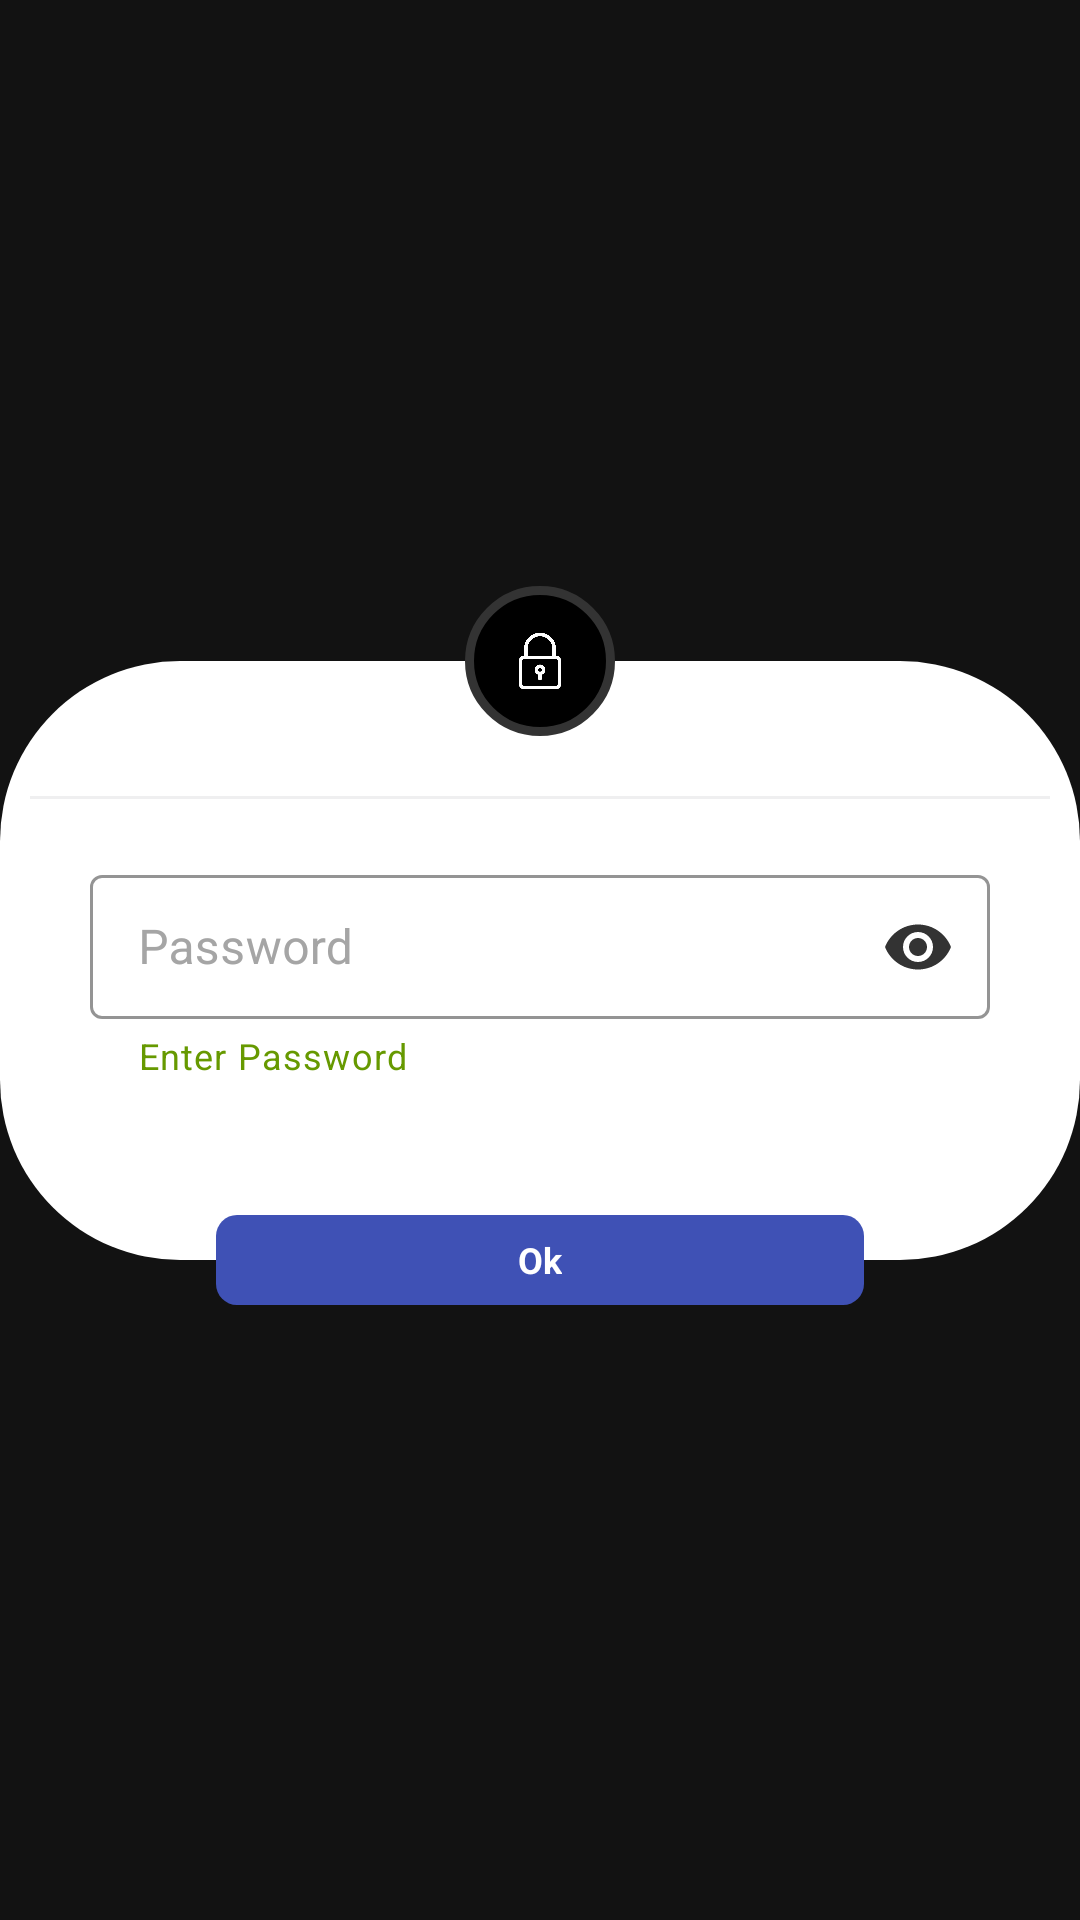

Icon click points for this 1080×1920 phone screenshot, format (x,y):
locked: (540,661)
